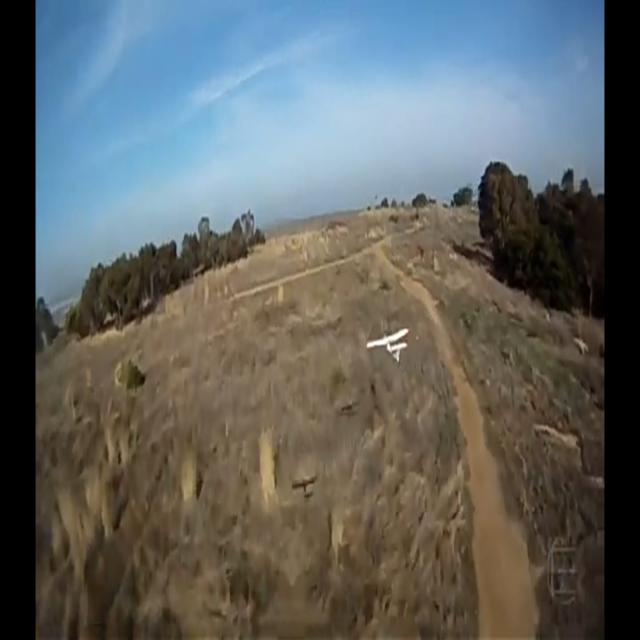iha: (366, 325, 409, 364)
